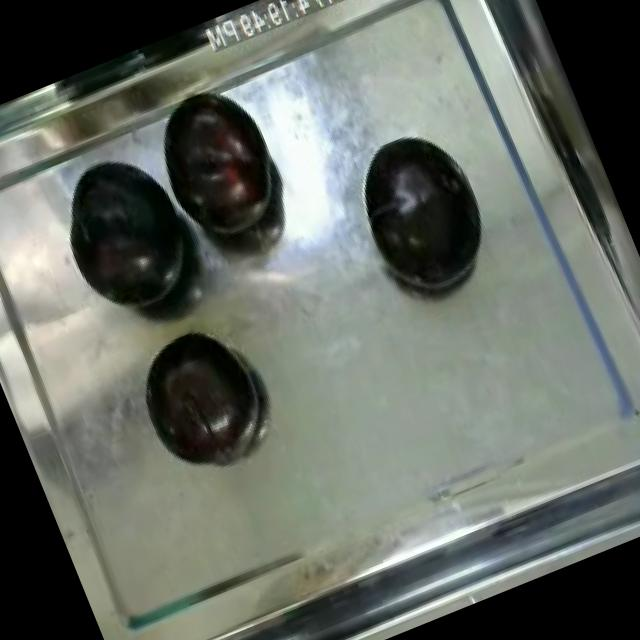Fruit: (332, 111, 507, 312), (44, 134, 217, 330), (139, 76, 299, 256), (122, 314, 280, 484)
